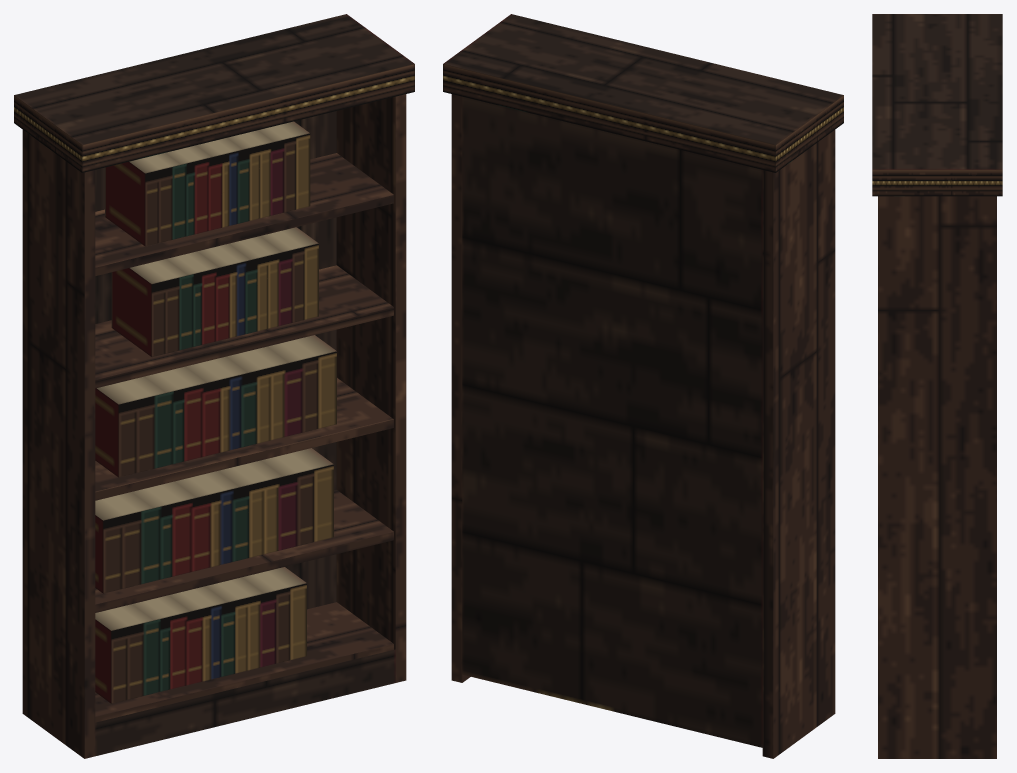
The model's file is Furn_Bookcase_Tall.fbx.
3 renders of one model, left to right at view 1: azimuth 30°, elevation 25°; view 2: azimuth 150°, elevation 25°; view 3: azimuth 270°, elevation 25°, orthographic. The views are drawn at different scales.
Parts seen in each view (by area): view 1: Furn_Bookcase_Tall; view 2: Furn_Bookcase_Tall; view 3: Furn_Bookcase_Tall.
Boxes of the visible parts, x1,y1,x2,y2 form: Furn_Bookcase_Tall: (14, 14, 414, 758); Furn_Bookcase_Tall: (443, 14, 843, 758); Furn_Bookcase_Tall: (872, 14, 1002, 758).
Size of the model in its own units: 1.24 by 2.2 by 0.44.
